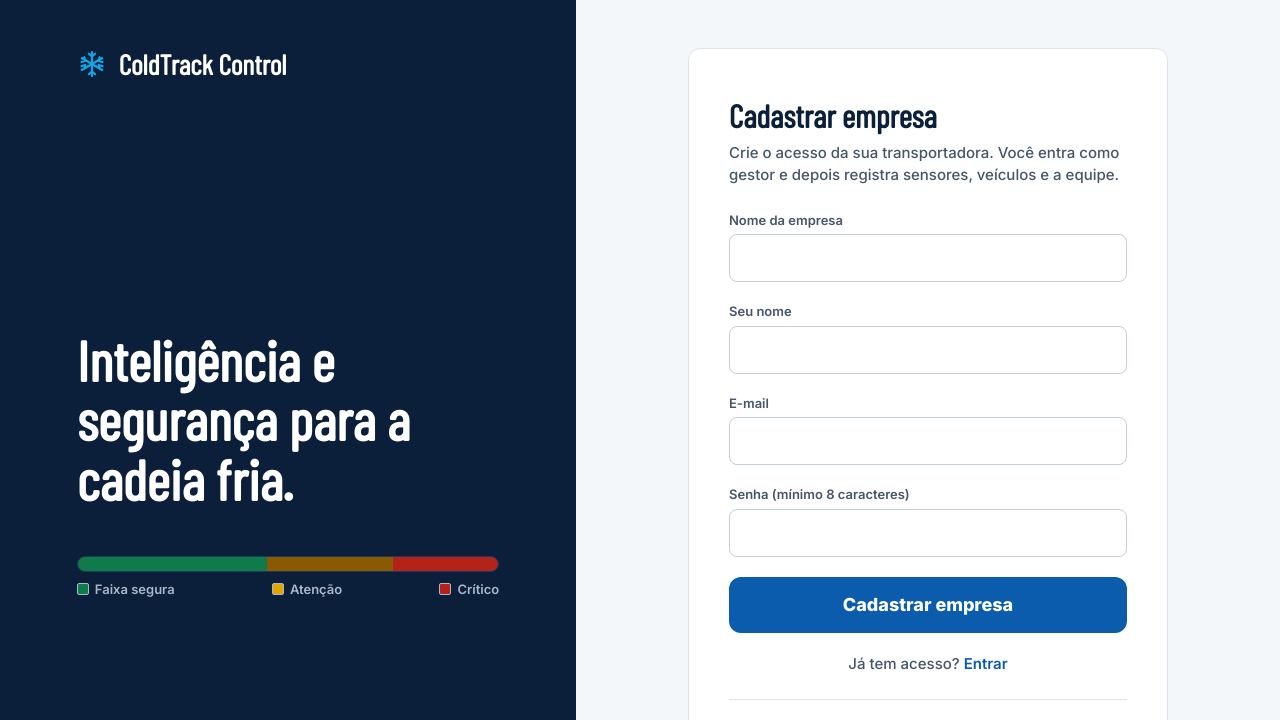
Test: Cadastro › API recusa: junta os erros e libera o botão
Type "Frio Sul" into the field labelled "Nome da empresa" at (928, 258), box [729,234,1127,282]
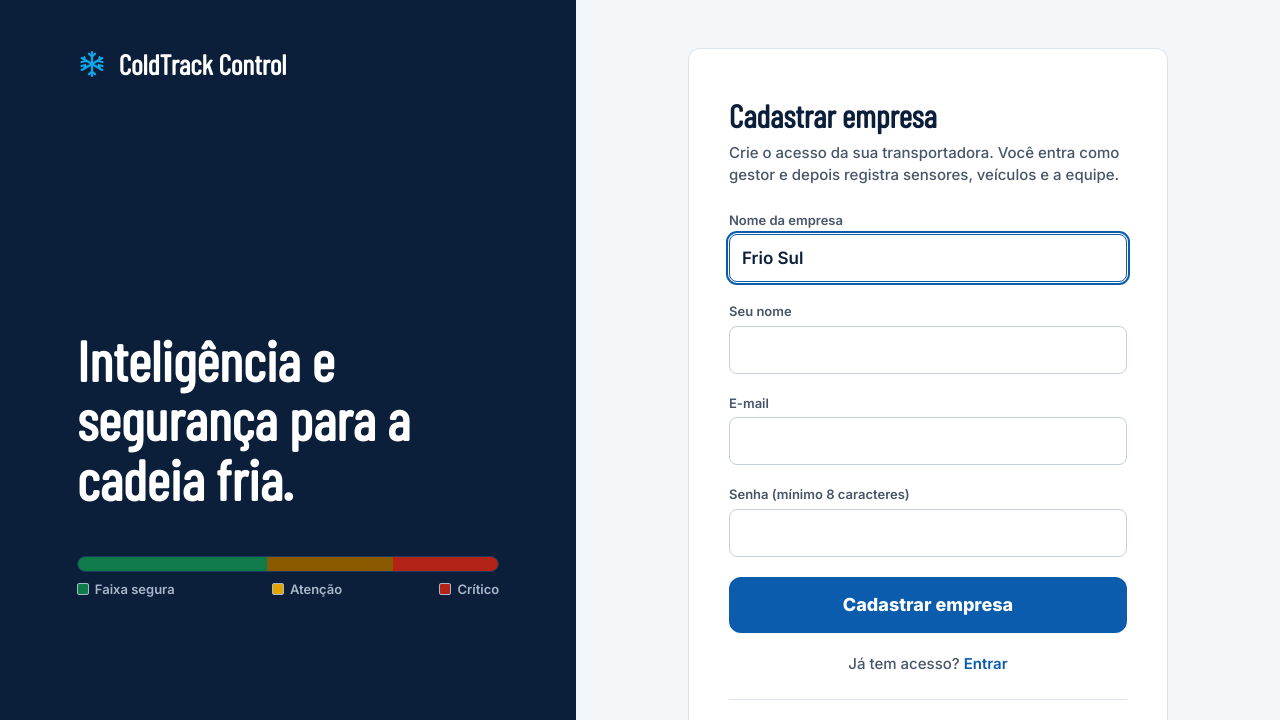
Type "Ana" into the field labelled "Seu nome" at (928, 350), box [729,326,1127,374]
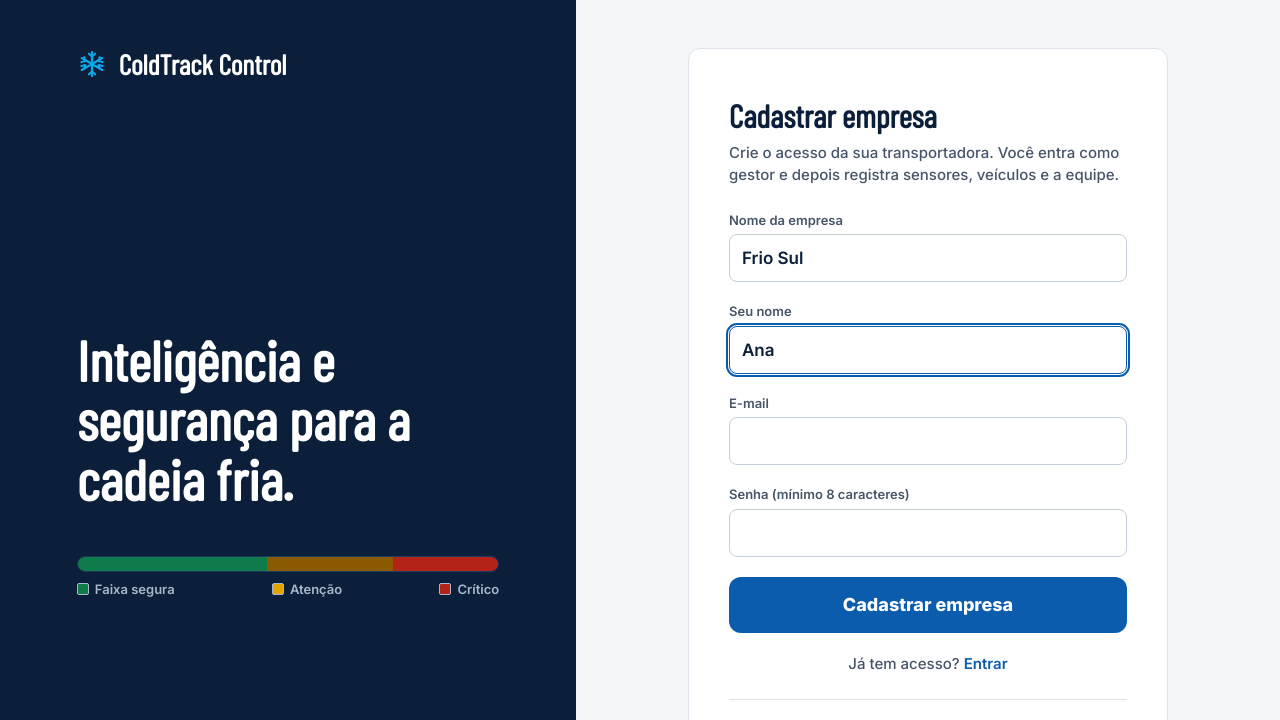
Type "ana@frio.com" into the field labelled "E-mail" at (928, 441), box [729,417,1127,465]
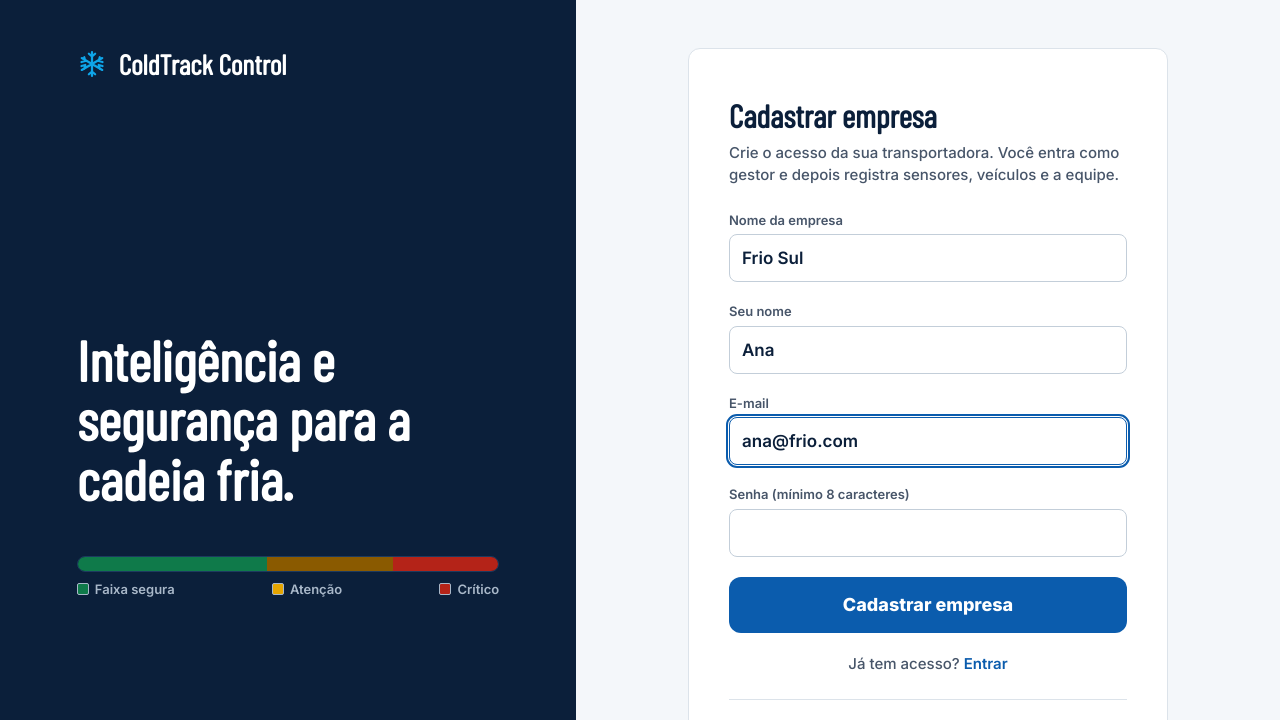
Type "senha1234" into the password field labelled "Senha (mínimo 8 caracteres)" at (928, 533), box [729,509,1127,557]
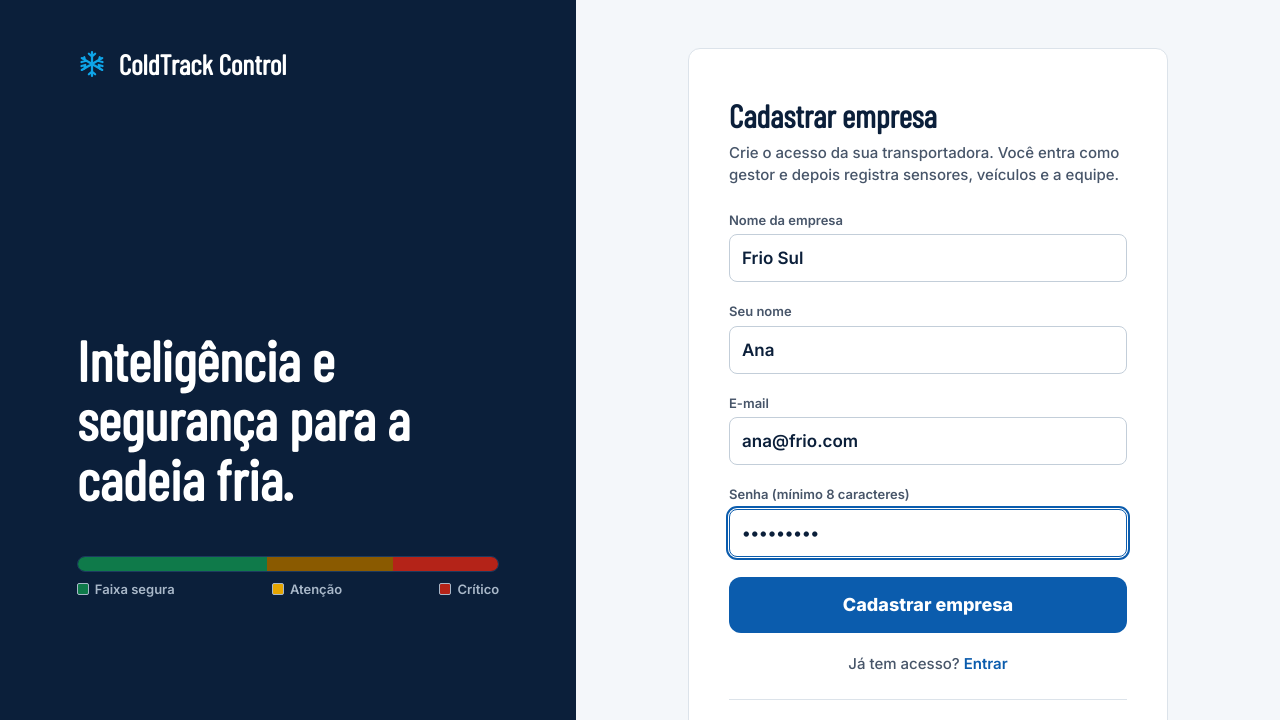
Click the button "Cadastrar empresa" at (928, 605), box [729,577,1127,633]
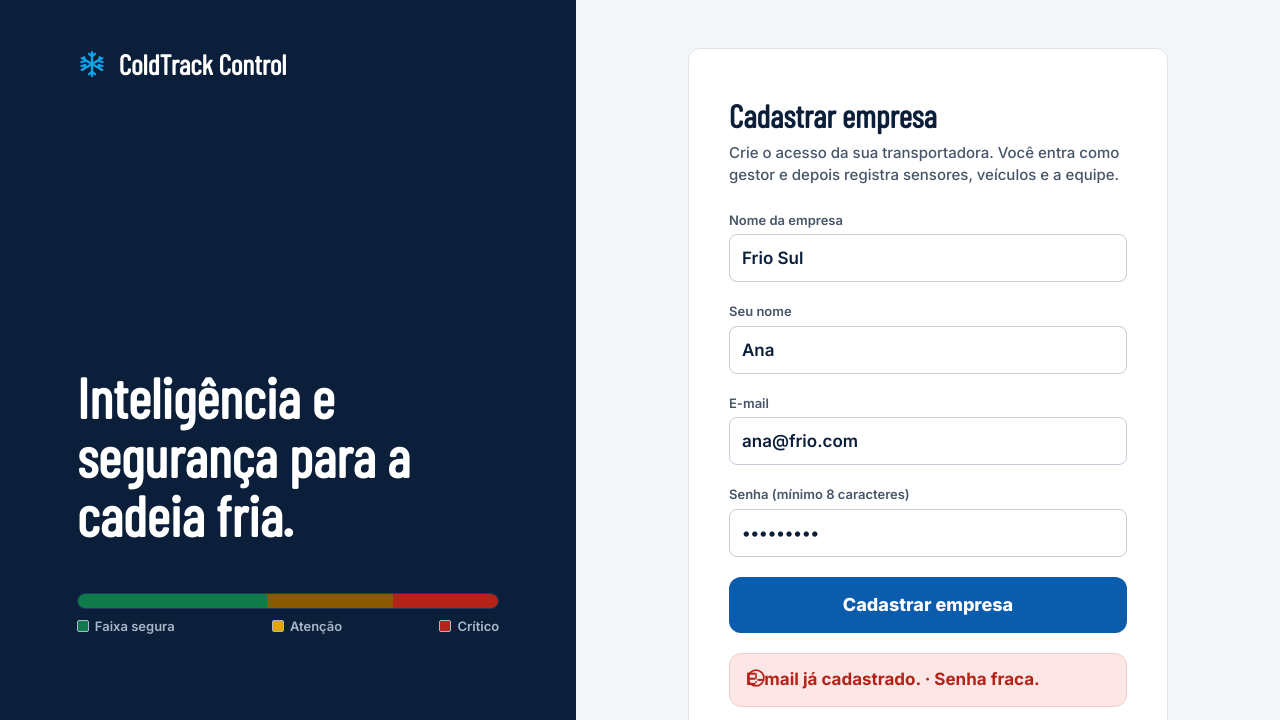
Expected: the text "E-mail já cadastrado. · Senha fraca." is shown, [729,653,1127,707]
